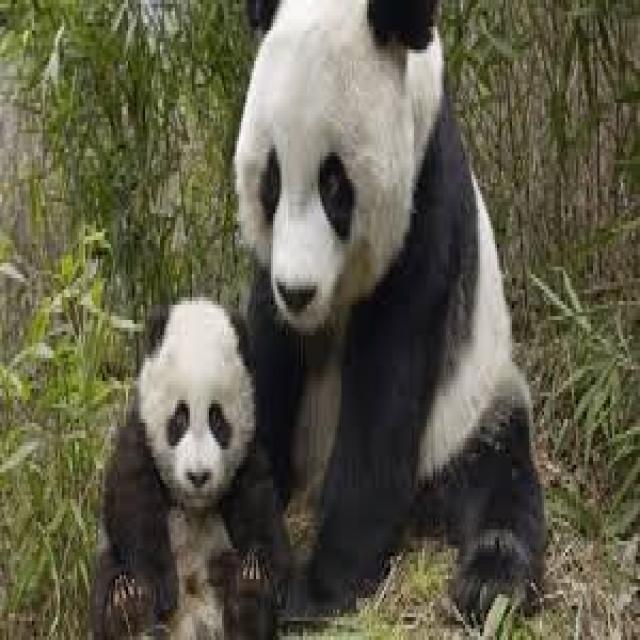Panda: (236, 0, 543, 640), (99, 294, 275, 620)
